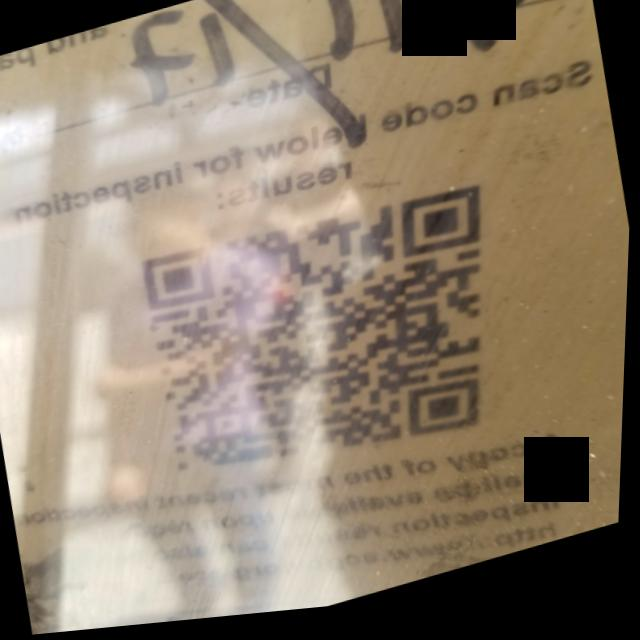QR_CODE: (118, 156, 548, 527)
